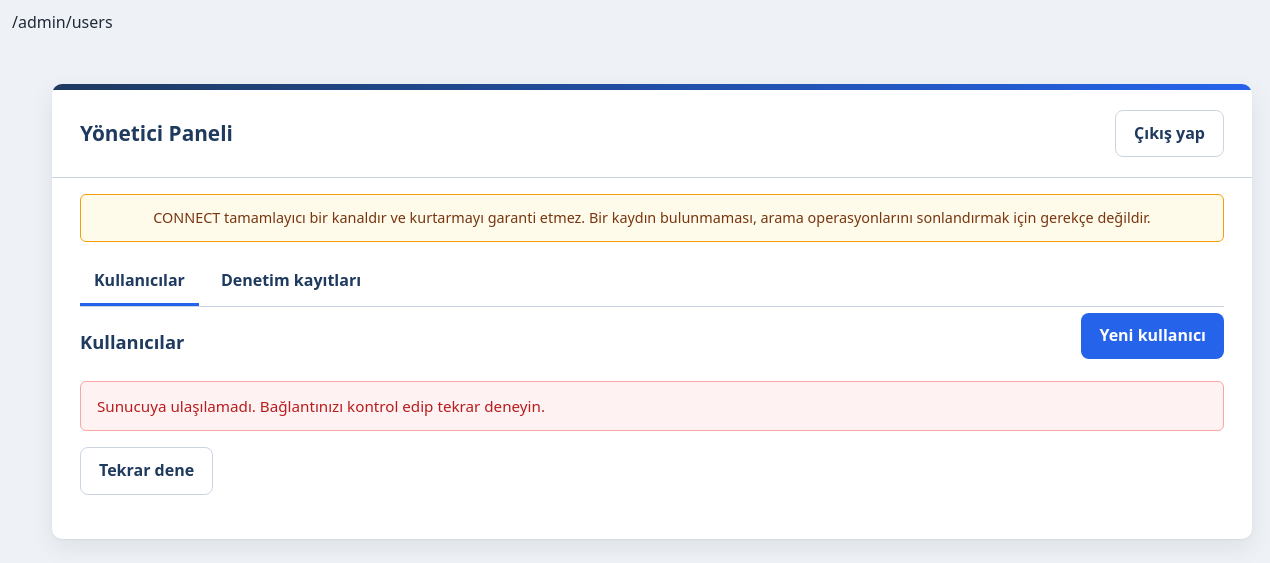
it: UsersPage › shows a network error with retry; SIGNED_OUT shows nothing
Expected: the message shows "Sunucuya ulaşılamadı", [97,396,545,416]
Click the button "Tekrar dene".
click(147, 471)  # box [80,447,213,495]
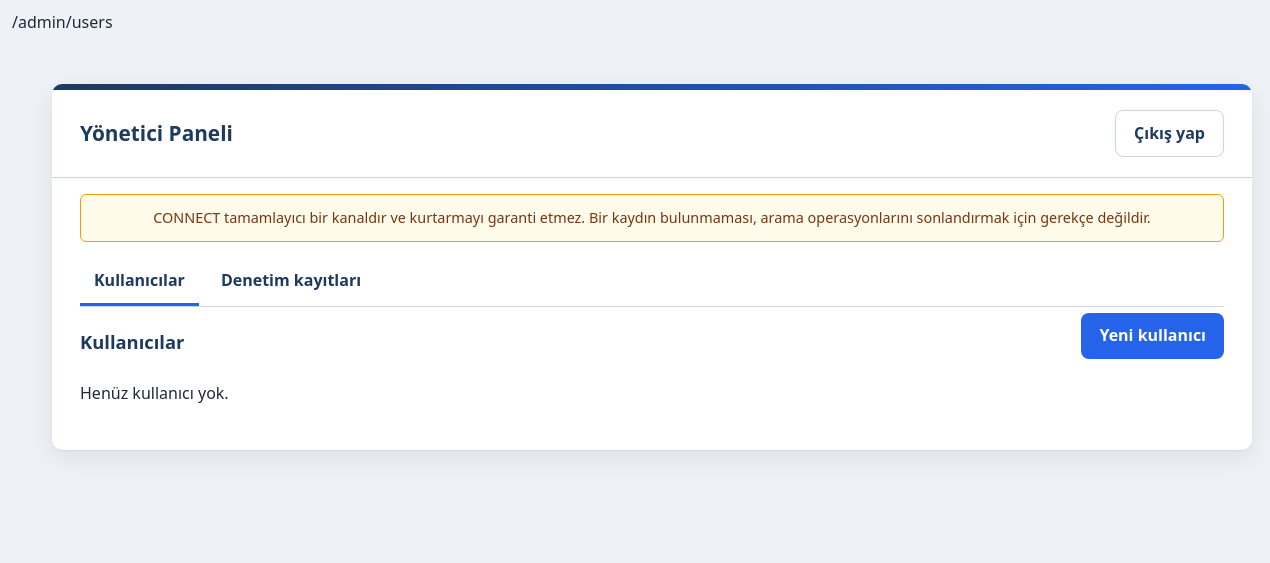
Expected: the text "Henüz kullanıcı yok." is shown, [80,382,229,404]
